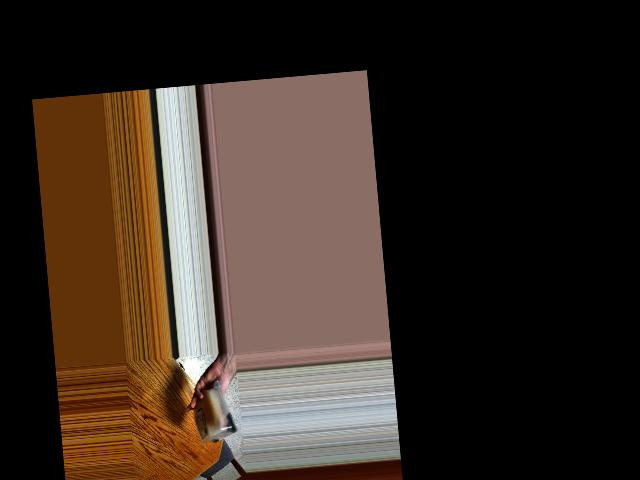cheese: (189, 385, 236, 446)
